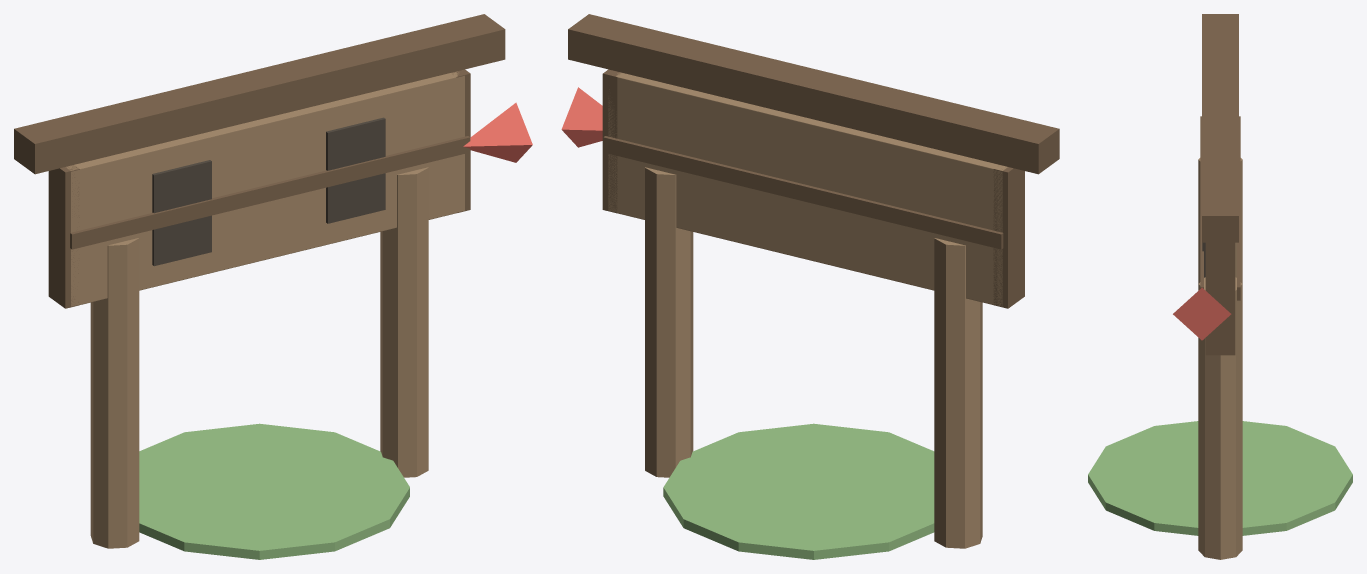
The model's file is foot_path_marker.glb.
The picture shows the model from 3 angles, left to right: view 1: azimuth 30°, elevation 25°; view 2: azimuth 150°, elevation 25°; view 3: azimuth 270°, elevation 25°; orthographic projection. The views are drawn at different scales.
Visible parts, largest first — view 1: foot_path_marker; view 2: foot_path_marker; view 3: foot_path_marker.
Boxes of the visible parts, left/top/right/bottom form: foot_path_marker: left=14, top=14, right=532, bottom=559; foot_path_marker: left=561, top=14, right=1059, bottom=559; foot_path_marker: left=1088, top=14, right=1352, bottom=559.
Size of the model in its own units: 0.665 by 0.56 by 0.36.
